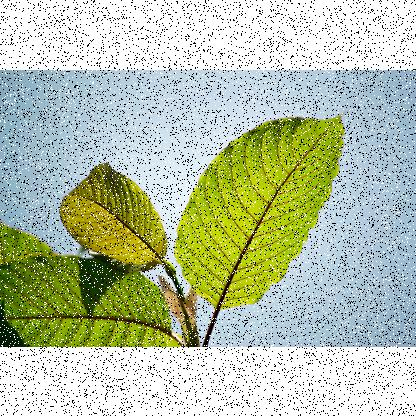kratom: (176, 99, 370, 311)
